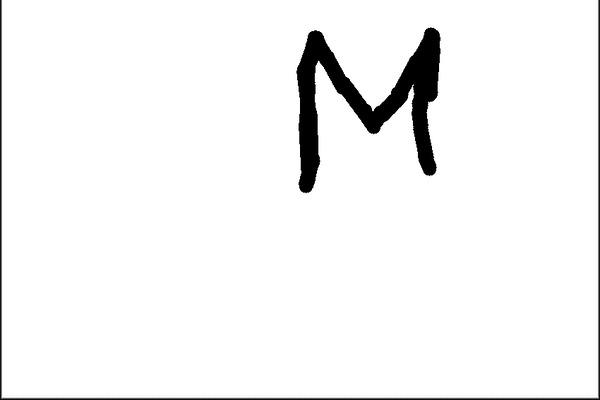M: (296, 26, 439, 190)
